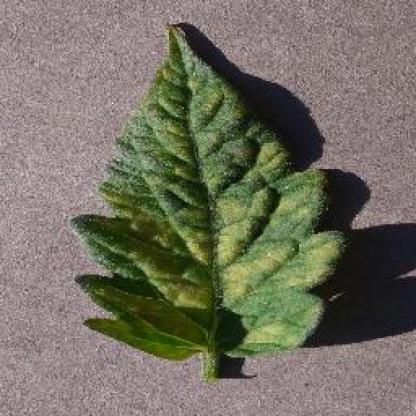Tomato_Leaf_Mold: (74, 23, 346, 356)
